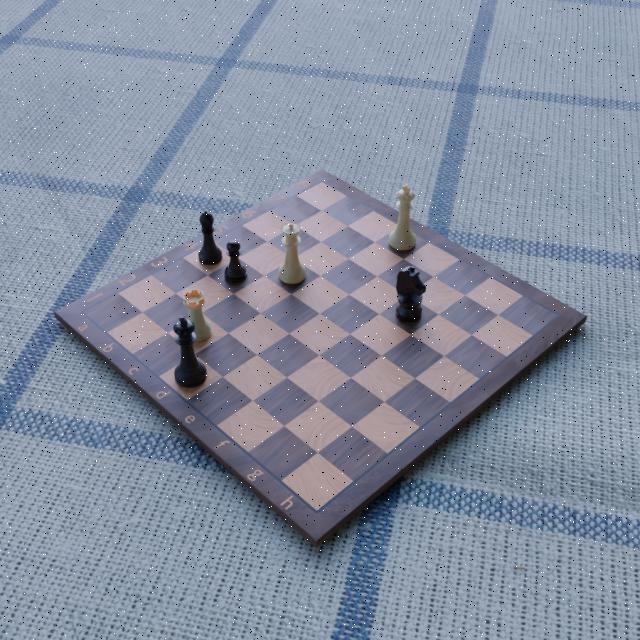black-bishop: (197, 210, 223, 266)
black-king: (172, 315, 208, 388)
black-knight: (393, 265, 426, 323)
black-pawn: (223, 239, 248, 284)
white-king: (386, 183, 418, 253)
white-queen: (277, 219, 307, 285)
white-rook: (182, 289, 210, 345)
